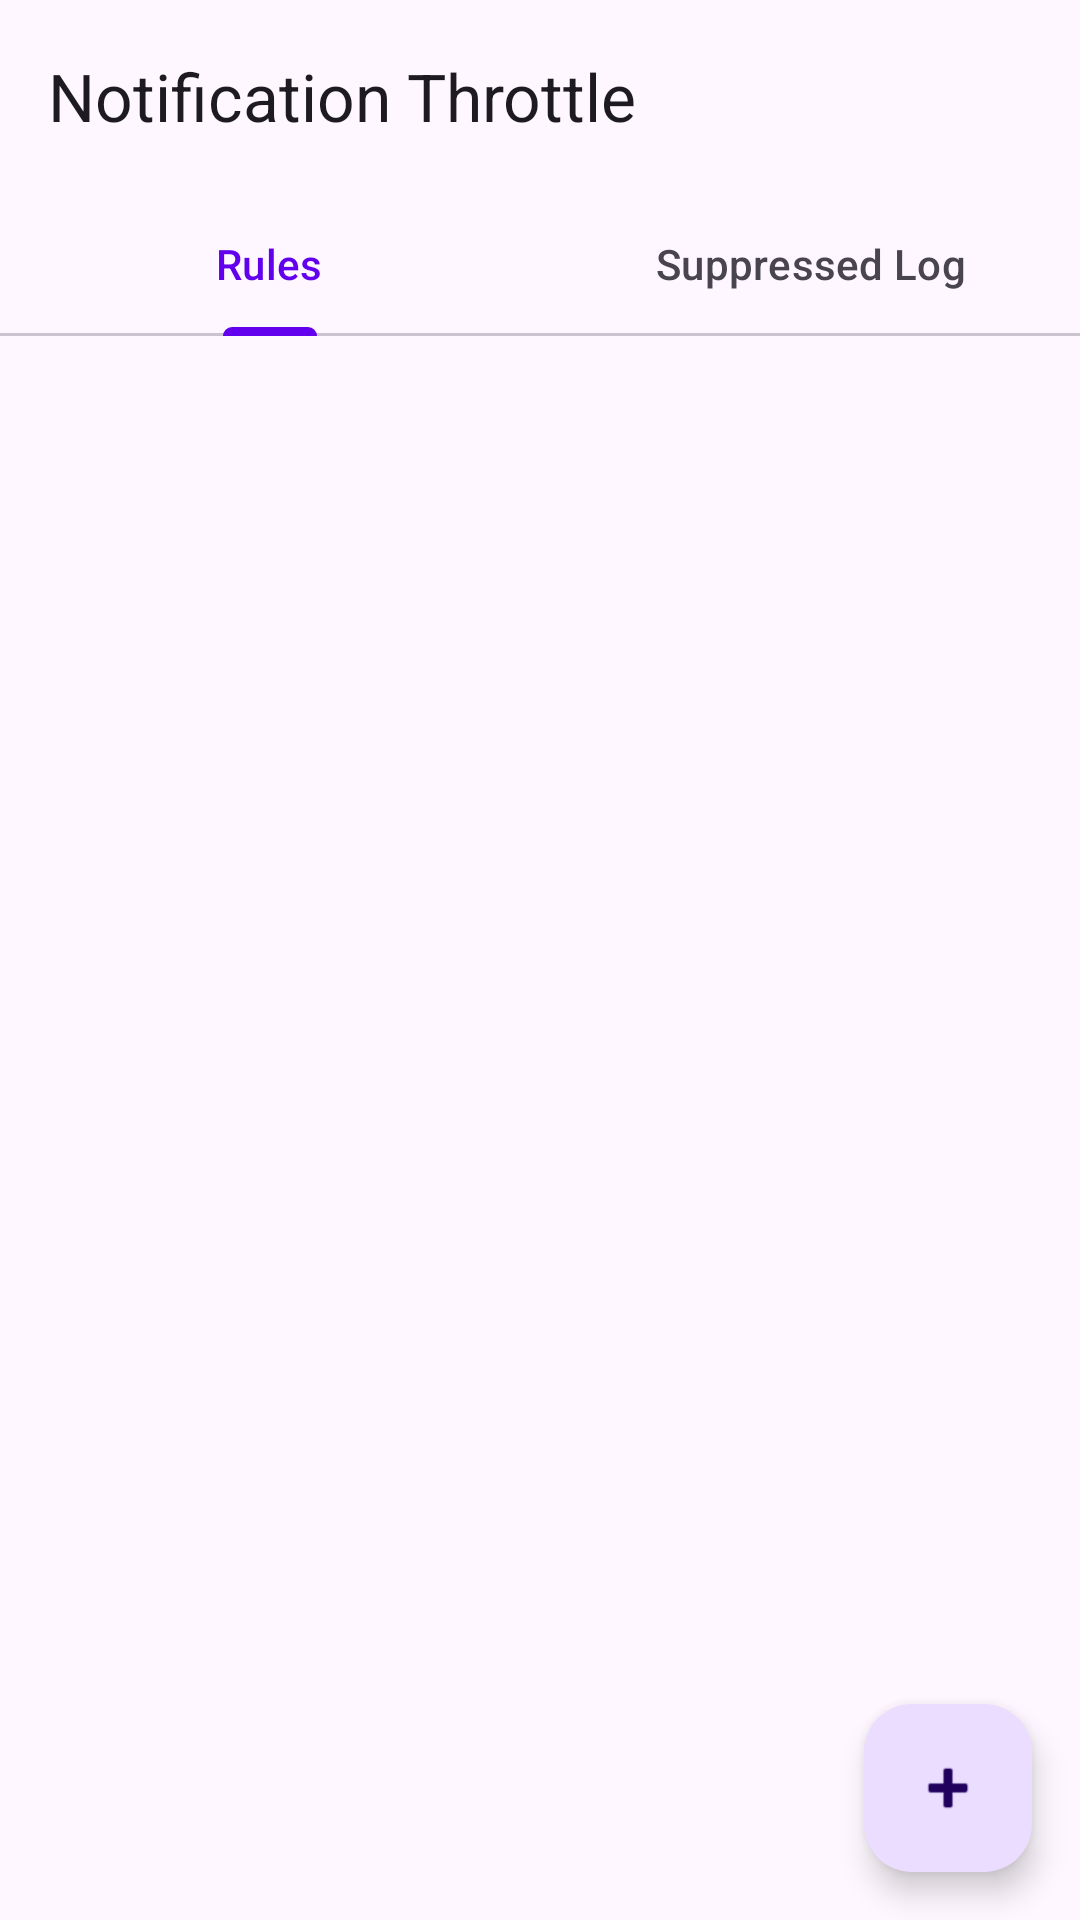

Locate icon controls on the screen. Image size 1080×1920, boxes as [x1, y1, x2, y2].
Add app rule: [864, 1704, 1032, 1872]
